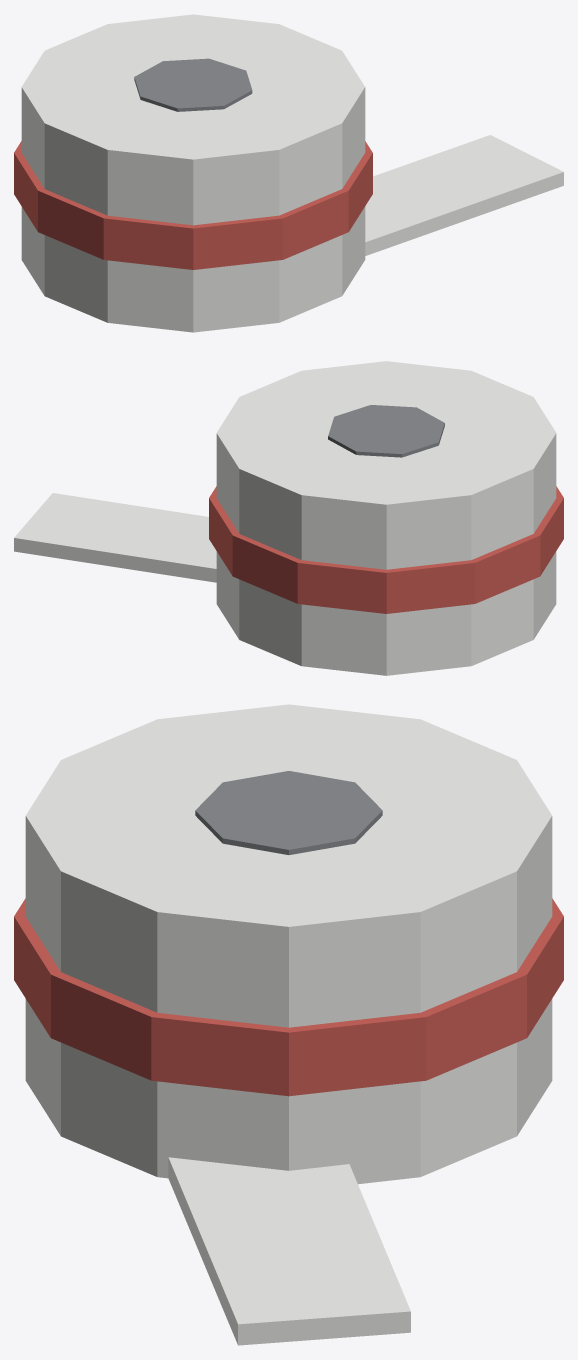
Rendered from curativo.glb.
3 views of the same model, one above another, from view 1: azimuth 30°, elevation 25°; view 2: azimuth 150°, elevation 25°; view 3: azimuth 270°, elevation 25° (orthographic). The views are drawn at different scales.
Visible parts, largest first — view 1: curativo; view 2: curativo; view 3: curativo.
Boxes of the visible parts, x1,y1,x2,y2 form: curativo: (14, 14, 563, 332); curativo: (14, 361, 563, 675); curativo: (14, 704, 563, 1345).
Bounding box in the file's own units: 0.1541 × 0.052 × 0.094.
